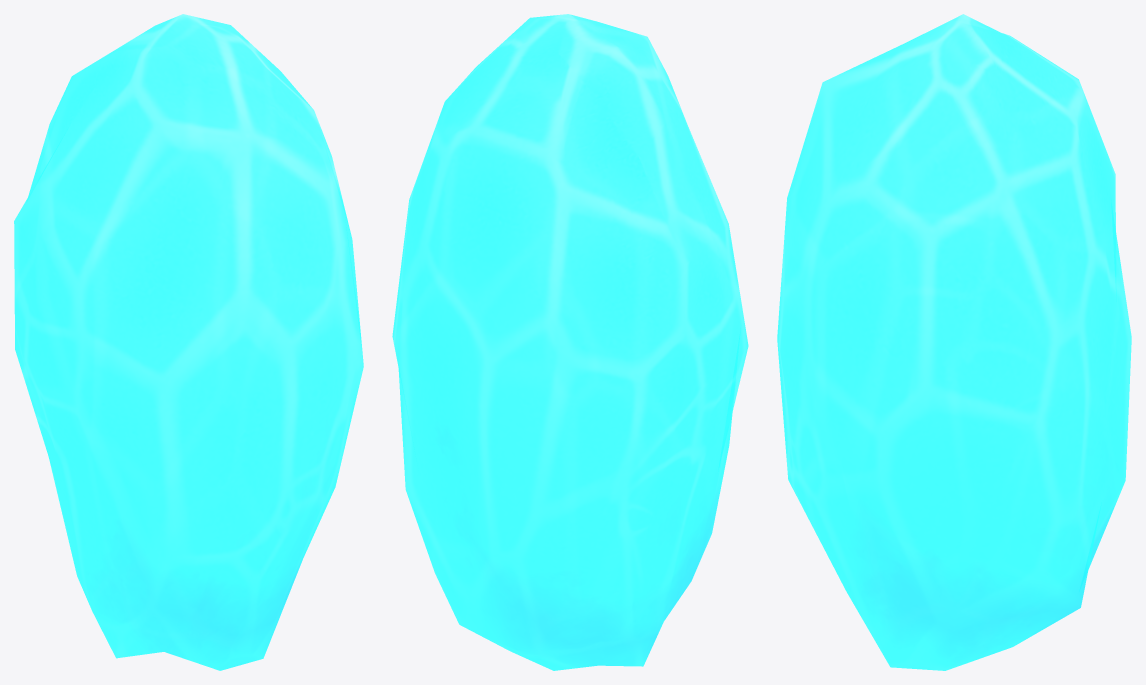
Rendered from charge_gem.glb.
The picture shows the model from 3 angles, left to right: view 1: azimuth 30°, elevation 25°; view 2: azimuth 150°, elevation 25°; view 3: azimuth 270°, elevation 25°; orthographic projection. The views are drawn at different scales.
Visible parts, largest first — view 1: Low; view 2: Low; view 3: Low.
Boxes of the visible parts, x1,y1,x2,y2 form: Low: (14,14,363,670); Low: (392,14,748,670); Low: (777,14,1131,670).
Size of the model in its own units: 0.1533 by 0.3159 by 0.1593.
Materials: 1 (1 with a texture image).
